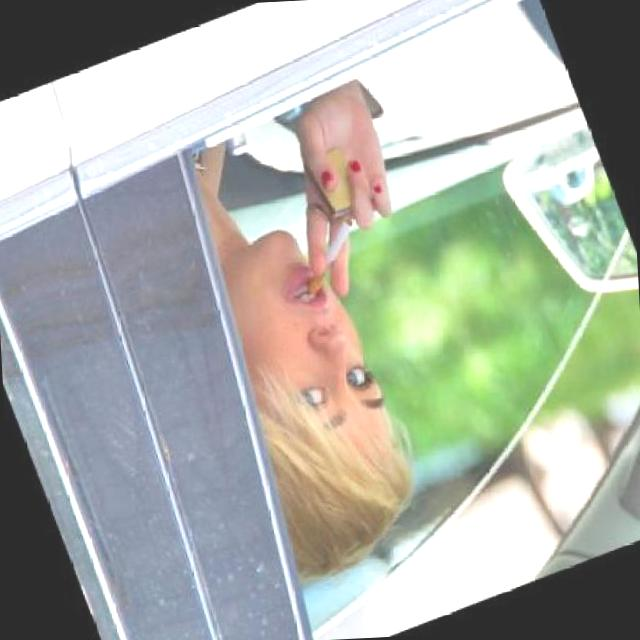cigarette: (280, 210, 372, 298)
